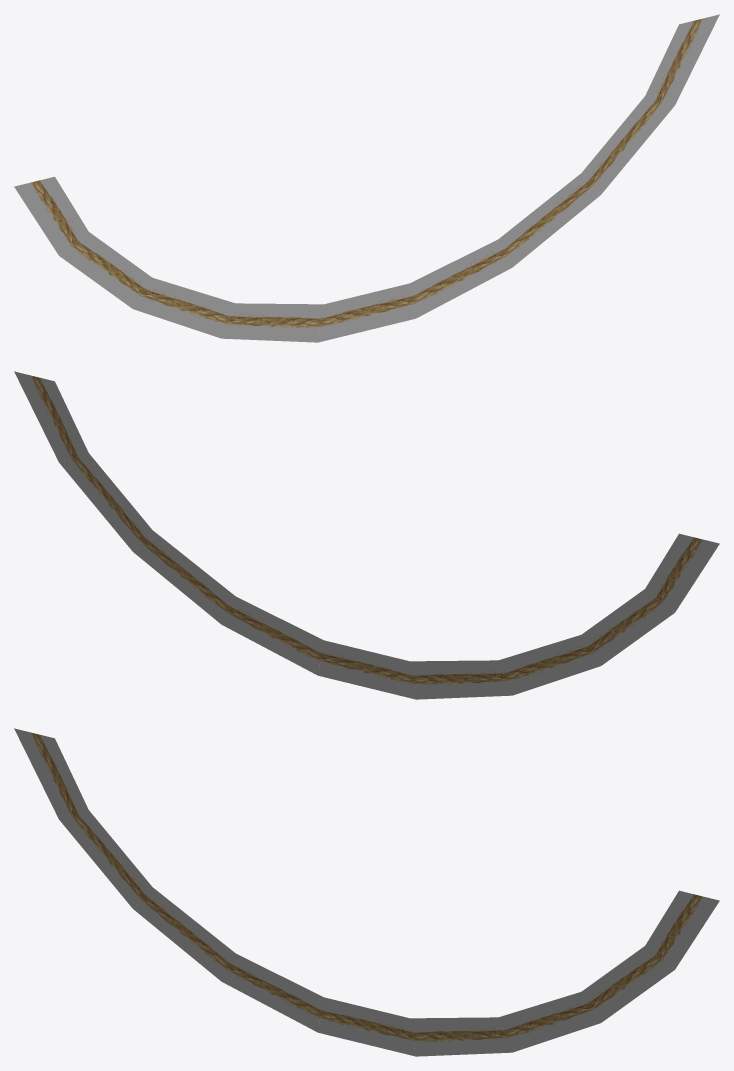
File: rope_001.fbx
The picture shows the model from 3 angles, top to bottom: view 1: azimuth 30°, elevation 25°; view 2: azimuth 150°, elevation 25°; view 3: azimuth 330°, elevation 25°; orthographic projection.
Visible parts, largest first — view 1: rope_001; view 2: rope_001; view 3: rope_001.
Part boxes in pixels (x1,y1,x2,y2): rope_001: (14, 14, 719, 342); rope_001: (14, 371, 719, 699); rope_001: (14, 728, 719, 1056).
Size of the model in its own units: 1431 by 446 by 0.00014.
